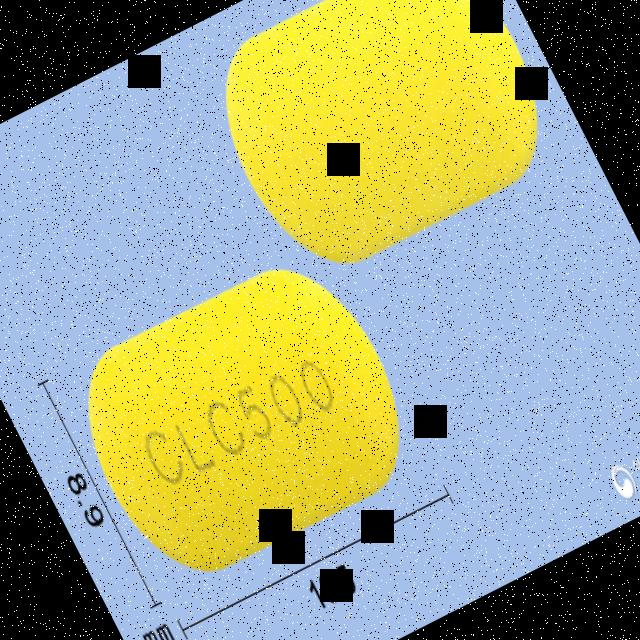Claric: (47, 230, 437, 602)
